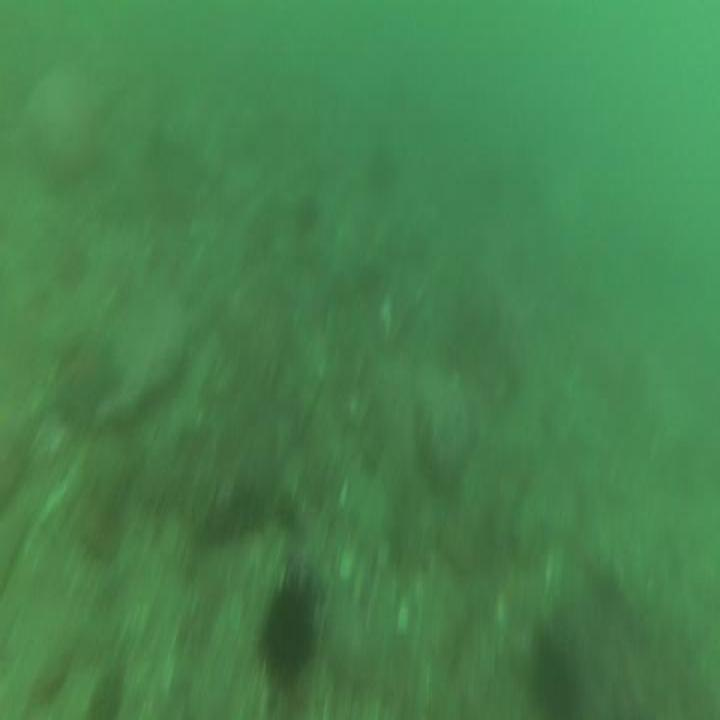echinus: (255, 572, 321, 686), (528, 626, 581, 720), (365, 140, 401, 204), (290, 186, 321, 244)
